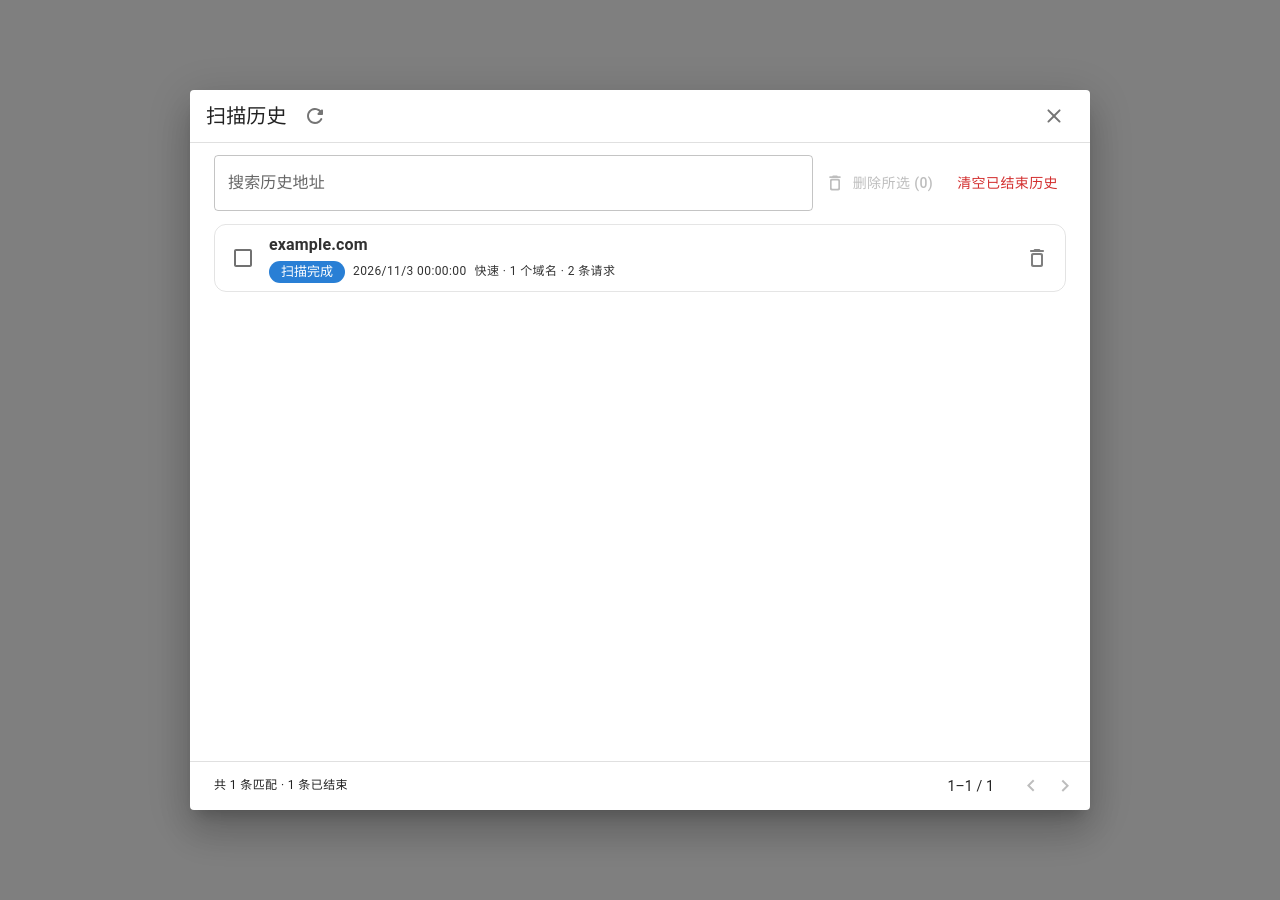
Test: 搜索时保留当前记录，并忽略较早的搜索响应
Expected: the button with aria-label "打开历史 example.com" is shown, 215,224 -> 1065,290
Type "old" into the field labelled "搜索历史地址" at (513, 183), box 214,155 -> 813,211
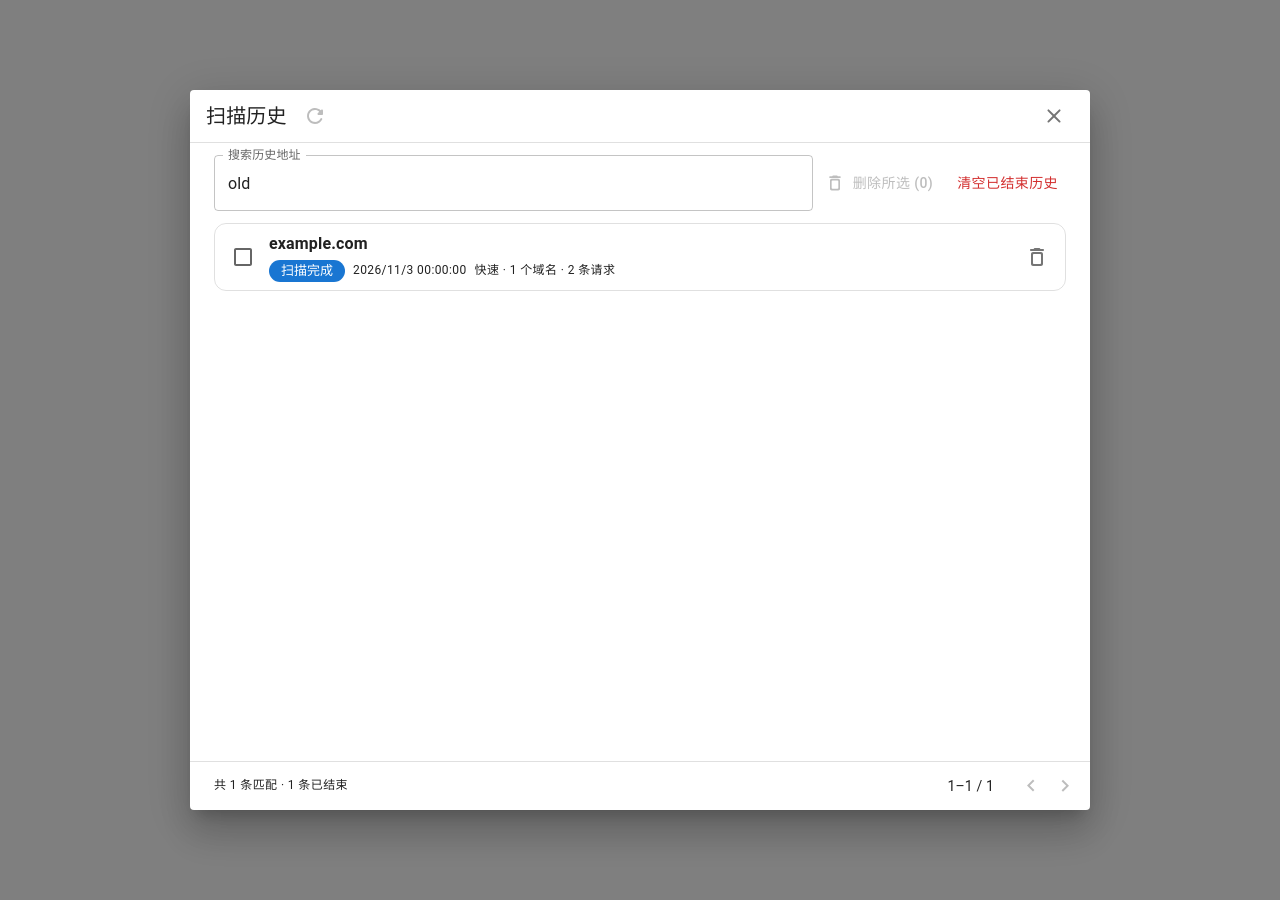
Expected: the button with aria-label "打开历史 example.com" is shown, 215,224 -> 1065,290
Replace the text in the field labelled "搜索历史地址" with "new" at (513, 183), box 214,155 -> 813,211
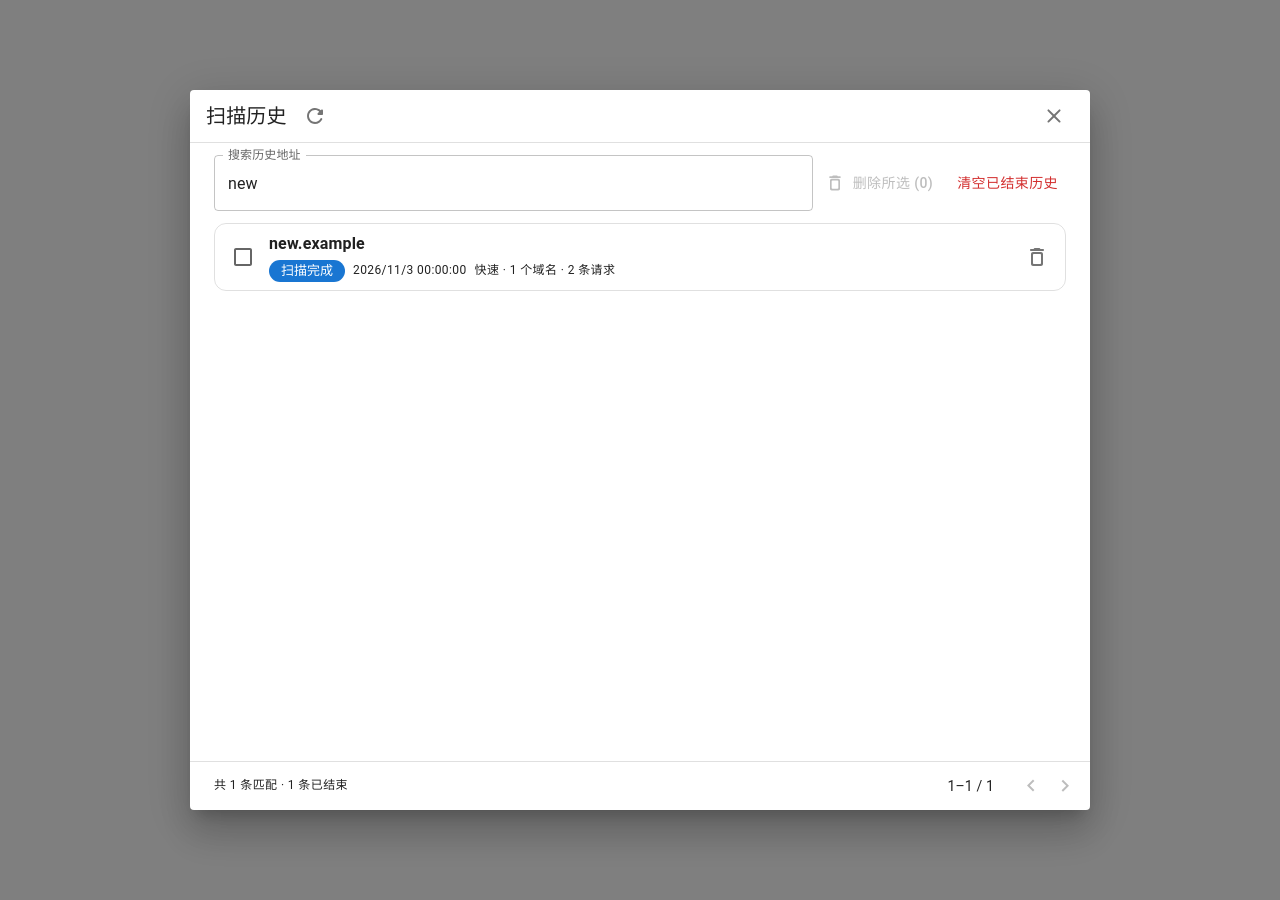
Expected: the button with aria-label "打开历史 new.example" is shown, 215,224 -> 1065,290
